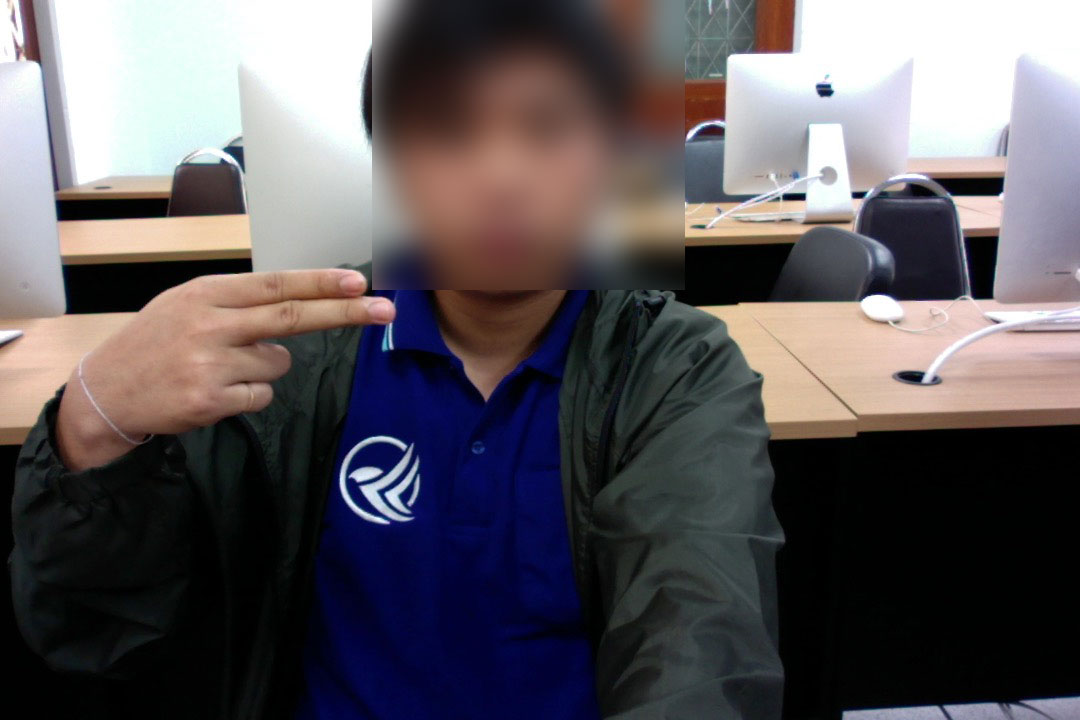hor: (44, 256, 404, 442)
